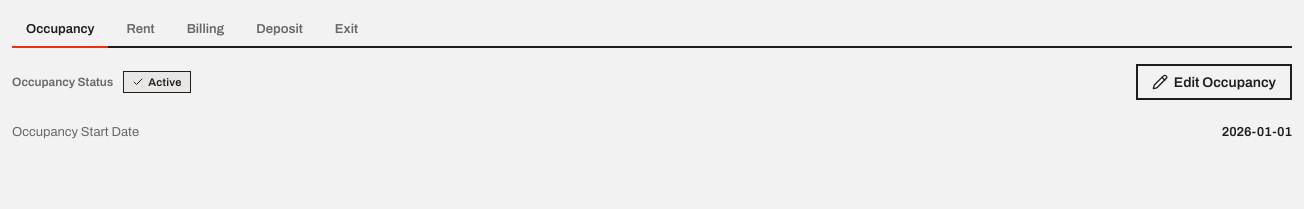
Test case: UnitOccupancyTabs — P6.3-D Part 3: Rent/Billing/Deposit/Exit reached from Unit Detail, scoped to one occupancy › switches to Billing and shows this occupancy's billing configuration
Click the tab "Billing" at (206, 30), box top-left (173, 12), bottom-right (238, 48)
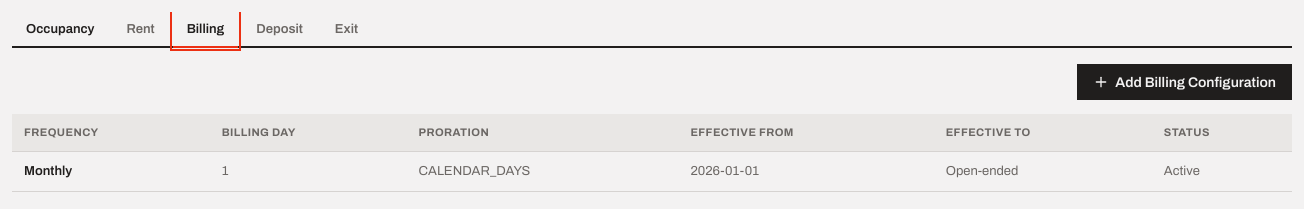
Expected: the cell "Monthly" is shown, top-left (12, 151), bottom-right (210, 192)
